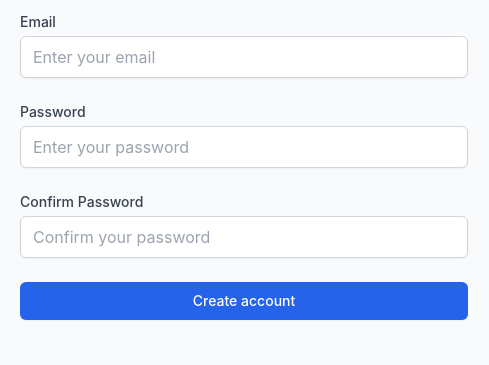
Test: RegisterForm › should show error when passwords do not match
This screenshot has width=489, height=365.
Type "test@example.com" into the field labelled "Email" at (244, 57), box [20,36,468,78]
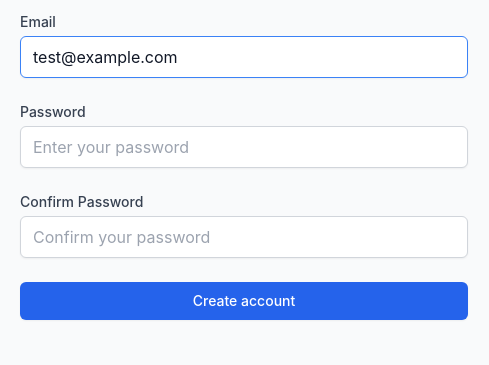
Type "password123" into the password field labelled "Password" at (244, 147), box [20,126,468,168]
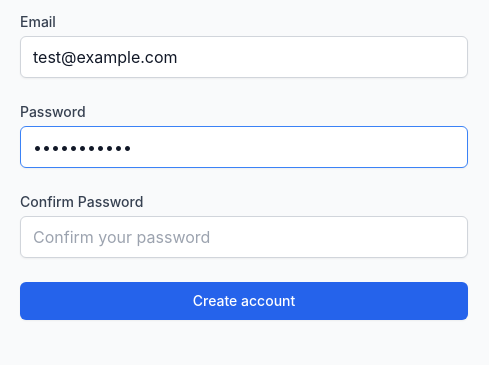
Type "different" into the password field labelled "Confirm Password" at (244, 237), box [20,216,468,258]
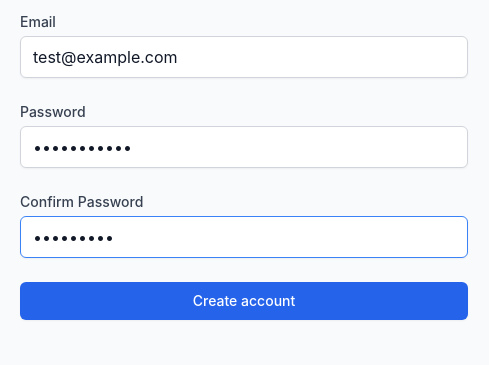
Click the button "Create account" at (244, 301), box [20,282,468,320]
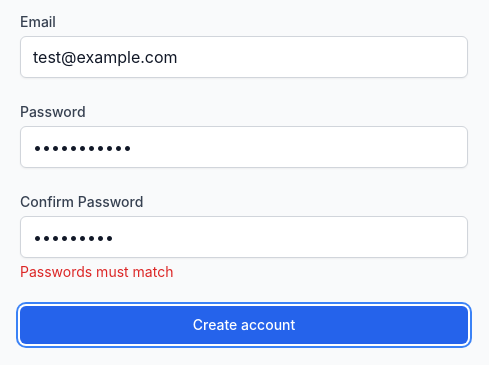
Check: the text "Passwords must match" is shown, box [20,263,173,280]
